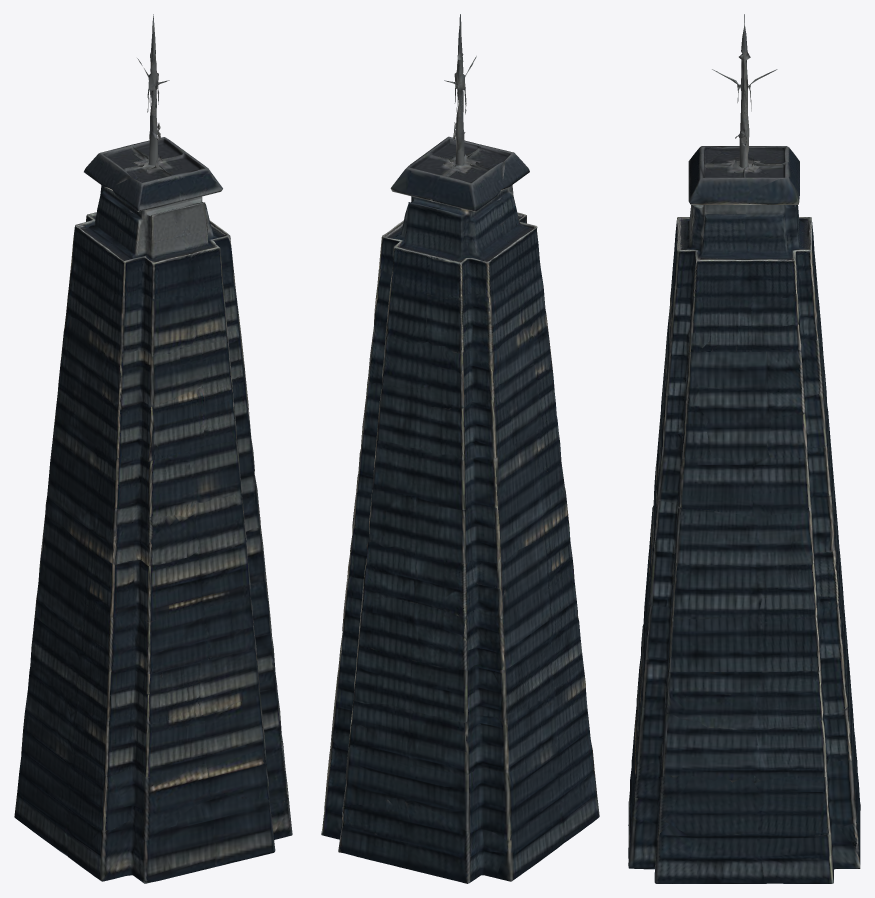
File: tower_a_p.glb
3 views of the same model, side by side, from view 1: azimuth 30°, elevation 25°; view 2: azimuth 150°, elevation 25°; view 3: azimuth 270°, elevation 25° (orthographic).
Bounding box in the file's own units: 0.4685 × 1.9 × 0.4853.
Materials: 1 (1 with a texture image).
